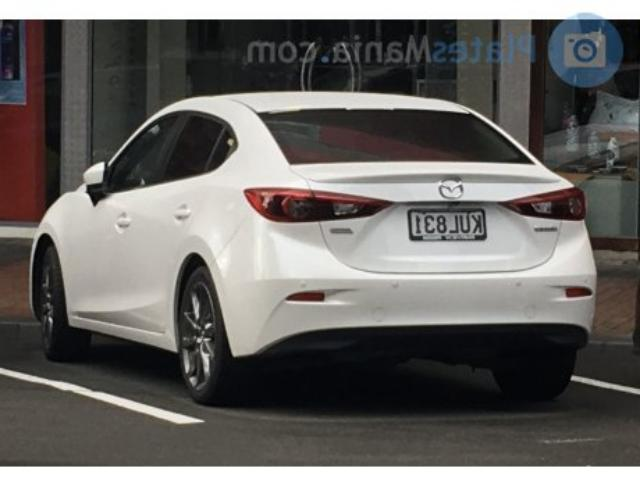Rego: (406, 208, 487, 242)
